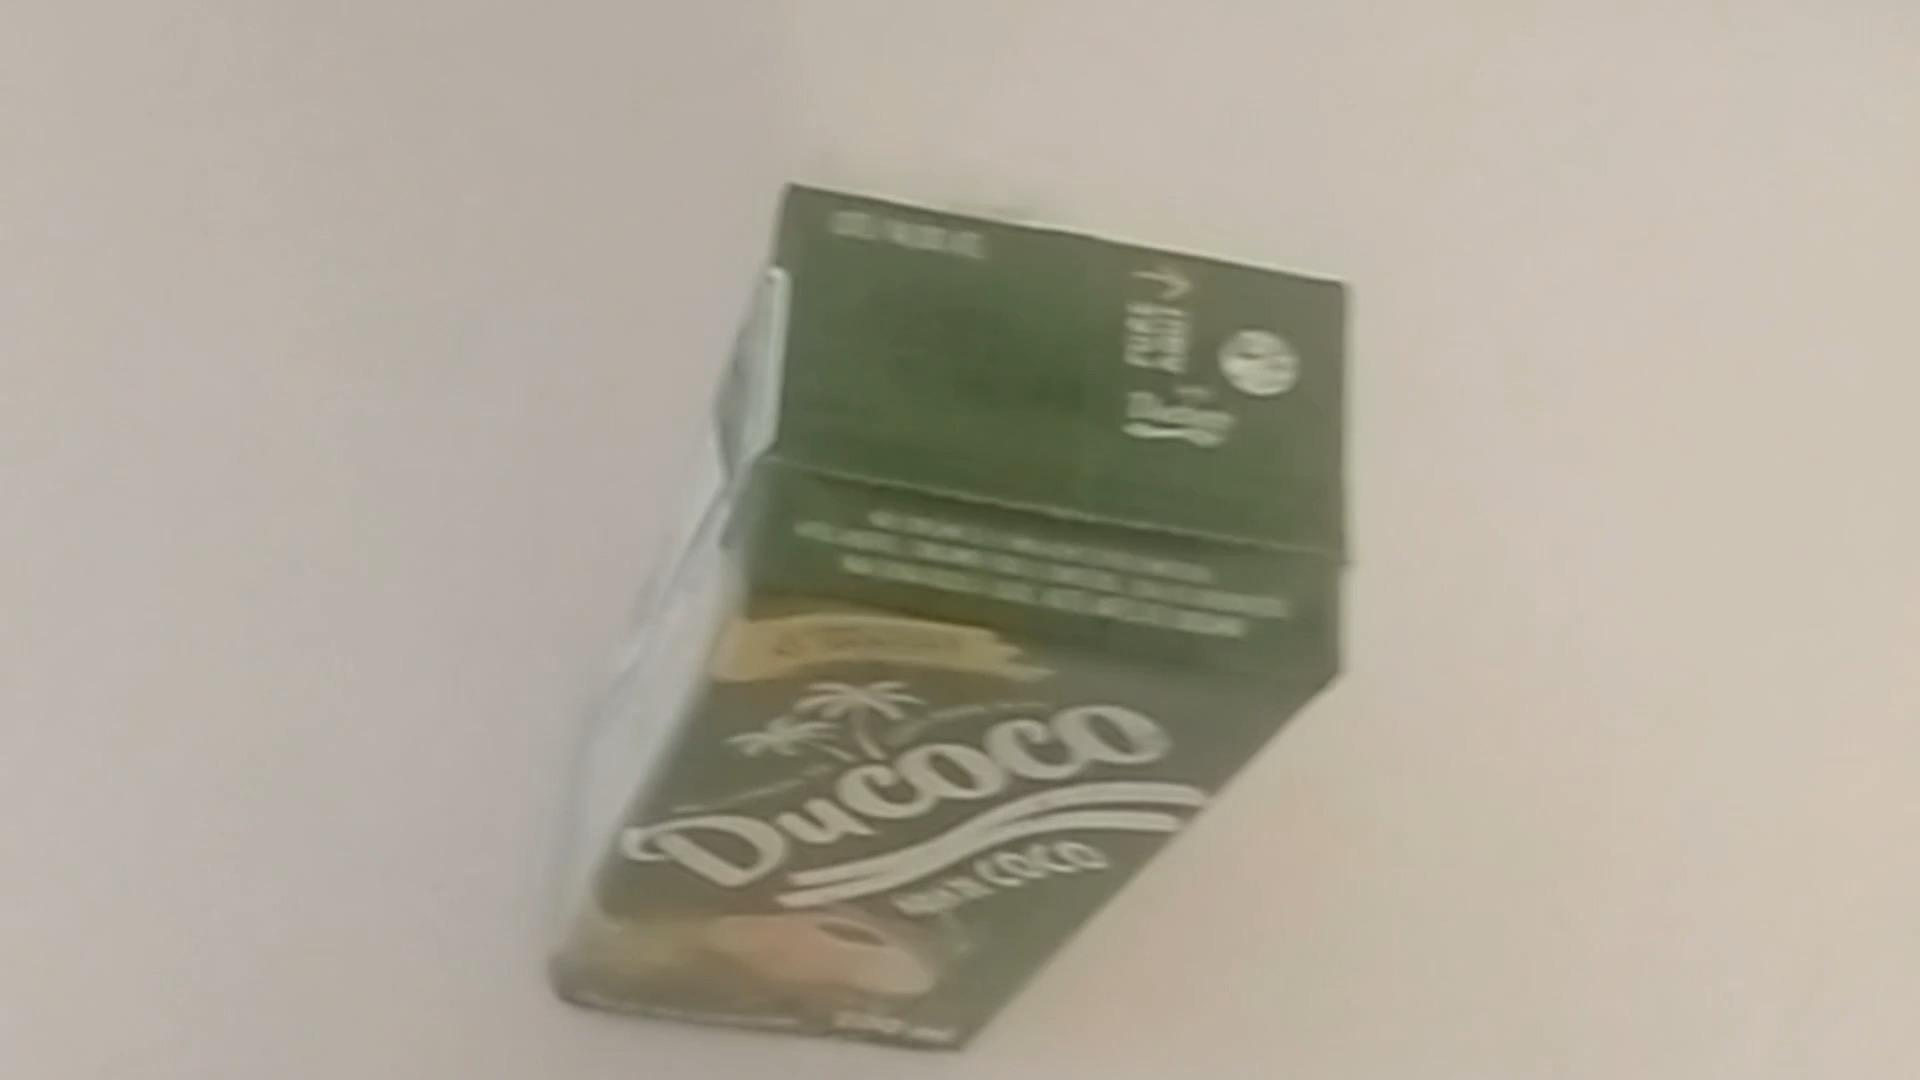coco: (539, 187, 1352, 1062)
